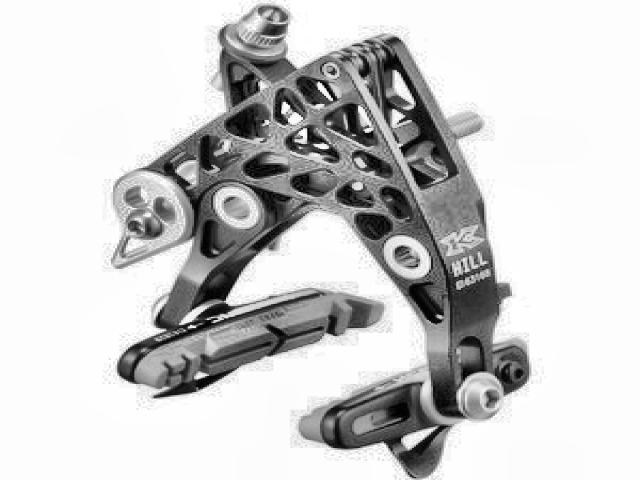rim_brake: (101, 2, 532, 480)
